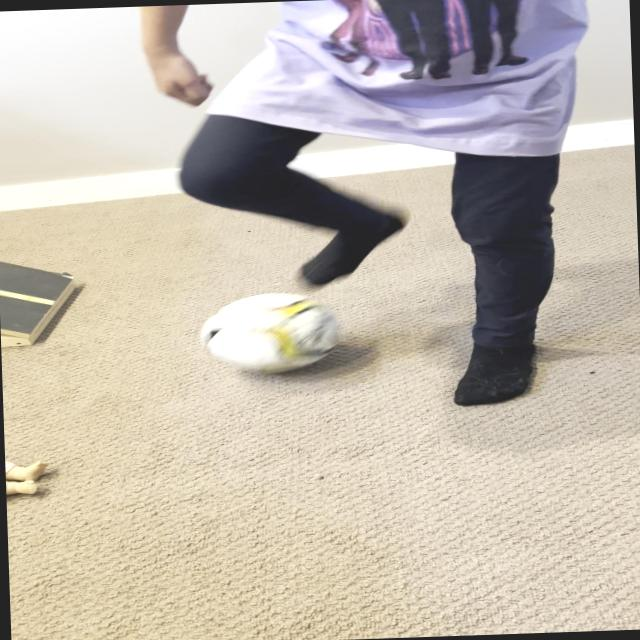Soccer Ball: (198, 290, 339, 374)
